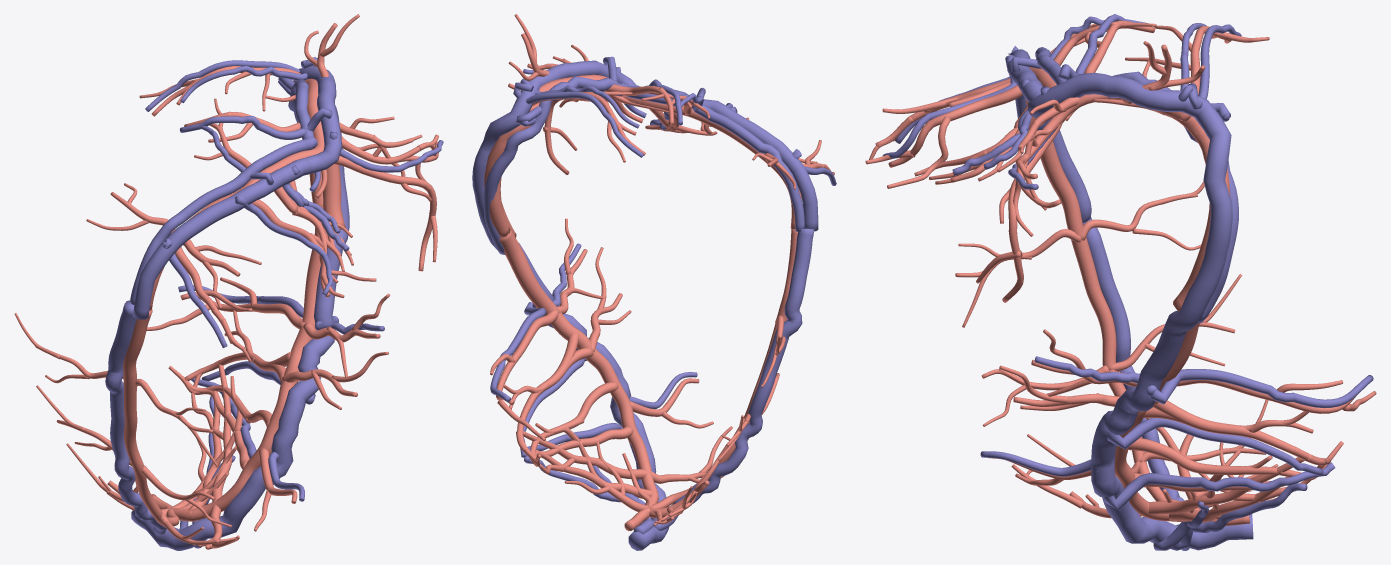
File: vessels_24.glb
The picture shows the model from 3 angles, left to right: view 1: azimuth 30°, elevation 25°; view 2: azimuth 150°, elevation 25°; view 3: azimuth 270°, elevation 25°; orthographic projection. The views are drawn at different scales.
Parts seen in each view (by area): view 1: Renderer Node; view 2: Renderer Node; view 3: Renderer Node.
Part boxes in pixels (box(x1,y1,x2,y2)): Renderer Node: box(14, 14, 443, 550); Renderer Node: box(472, 14, 836, 550); Renderer Node: box(865, 14, 1376, 550).
Size of the model in its own units: 87.57 by 119 by 90.22.
